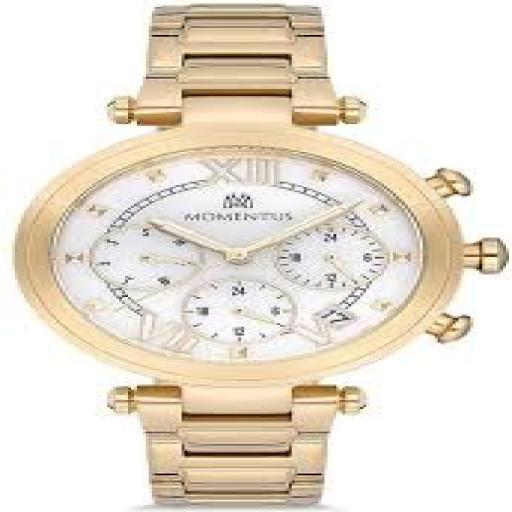KolSaati: (16, 0, 507, 512)
